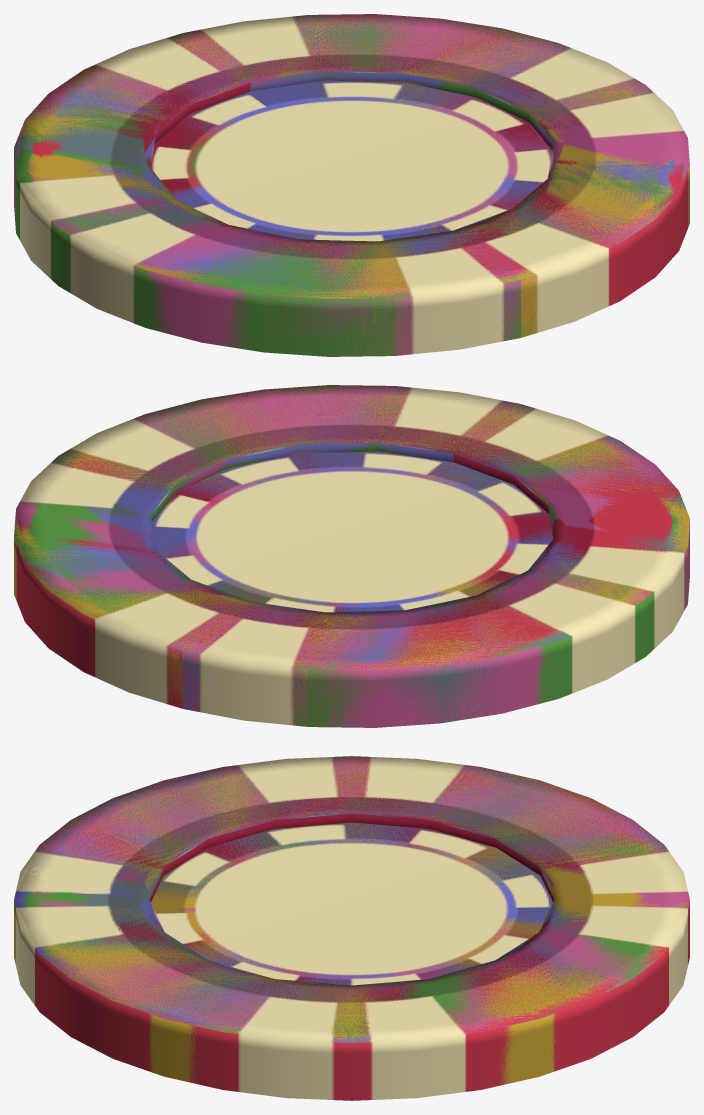
Rendered from fichas_LP.fbx.
3 views of the same model, one above another, from view 1: azimuth 30°, elevation 25°; view 2: azimuth 150°, elevation 25°; view 3: azimuth 270°, elevation 25° (orthographic).
Visible parts, largest first — view 1: Ficha_LP_01, Ficha_very_LP_02, Ficha_LP_05, Ficha_LP_06, Ficha_LP_04, Ficha_very_LP_01, Ficha_LP_03, Ficha_very_LP_04, Ficha_very_LP_06, Ficha_very_LP_05, Ficha_very_LP_03, Ficha_LP_02; view 2: Ficha_LP_01, Ficha_very_LP_01, Ficha_LP_04, Ficha_LP_06, Ficha_very_LP_02, Ficha_LP_05, Ficha_very_LP_04, Ficha_LP_03, Ficha_very_LP_05, Ficha_very_LP_03, Ficha_very_LP_06, Ficha_LP_02; view 3: Ficha_LP_01, Ficha_LP_04, Ficha_LP_06, Ficha_very_LP_02, Ficha_very_LP_01, Ficha_very_LP_06, Ficha_LP_05, Ficha_very_LP_04, Ficha_LP_03, Ficha_very_LP_03, Ficha_very_LP_05, Ficha_LP_02.
Part boxes in pixels (bbox=[...]): Ficha_LP_01: bbox=[14, 14, 689, 356]; Ficha_very_LP_02: bbox=[32, 15, 677, 288]; Ficha_LP_05: bbox=[15, 14, 677, 356]; Ficha_LP_06: bbox=[20, 14, 689, 356]; Ficha_LP_04: bbox=[29, 14, 688, 327]; Ficha_very_LP_01: bbox=[52, 18, 687, 277]; Ficha_LP_03: bbox=[14, 14, 689, 356]; Ficha_very_LP_04: bbox=[60, 15, 683, 297]; Ficha_very_LP_06: bbox=[24, 16, 675, 293]; Ficha_very_LP_05: bbox=[16, 16, 656, 297]; Ficha_very_LP_03: bbox=[23, 16, 658, 286]; Ficha_LP_02: bbox=[20, 16, 668, 347]; Ficha_LP_01: bbox=[15, 385, 689, 727]; Ficha_very_LP_01: bbox=[16, 388, 605, 666]; Ficha_LP_04: bbox=[16, 385, 680, 708]; Ficha_LP_06: bbox=[14, 385, 689, 726]; Ficha_very_LP_02: bbox=[26, 387, 678, 665]; Ficha_LP_05: bbox=[14, 385, 687, 727]; Ficha_very_LP_04: bbox=[17, 386, 680, 667]; Ficha_LP_03: bbox=[25, 387, 686, 724]; Ficha_very_LP_05: bbox=[26, 386, 685, 668]; Ficha_very_LP_03: bbox=[48, 389, 685, 664]; Ficha_very_LP_06: bbox=[49, 390, 685, 666]; Ficha_LP_02: bbox=[48, 386, 681, 718]; Ficha_LP_01: bbox=[28, 756, 689, 1042]; Ficha_LP_04: bbox=[16, 756, 689, 1100]; Ficha_LP_06: bbox=[14, 756, 688, 1085]; Ficha_very_LP_02: bbox=[14, 756, 670, 1042]; Ficha_very_LP_01: bbox=[37, 768, 689, 1030]; Ficha_very_LP_06: bbox=[36, 760, 687, 1040]; Ficha_LP_05: bbox=[18, 756, 683, 1042]; Ficha_very_LP_04: bbox=[42, 757, 670, 1037]; Ficha_LP_03: bbox=[33, 756, 688, 1042]; Ficha_very_LP_03: bbox=[42, 756, 682, 1040]; Ficha_very_LP_05: bbox=[24, 759, 655, 1037]; Ficha_LP_02: bbox=[14, 769, 666, 1042].
Size of the model in its own units: 5.03 by 0.4731 by 5.01.
